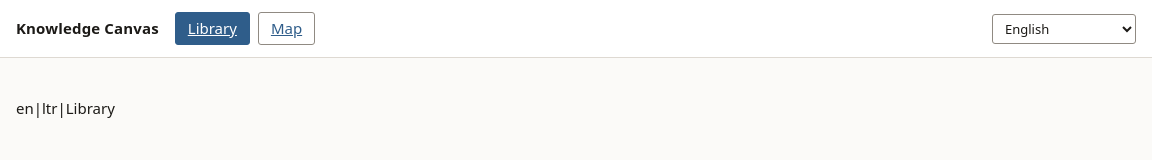
Test: the locale shell › switches direction from the shell's own control
The image size is (1152, 160).
Select "فارسی" in the dropdown named "Language" at [1064, 29], box [992,14,1136,44]
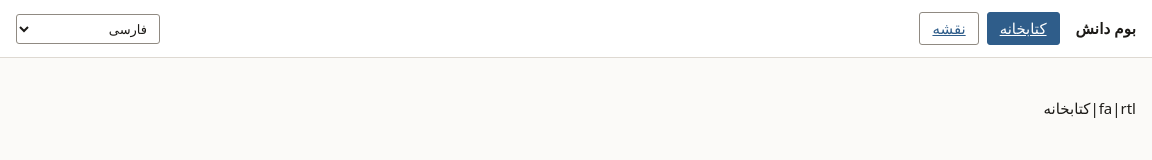
Expected: the text with test id "probe" reads "fa|rtl|کتابخانه", [1044,98,1136,118]
